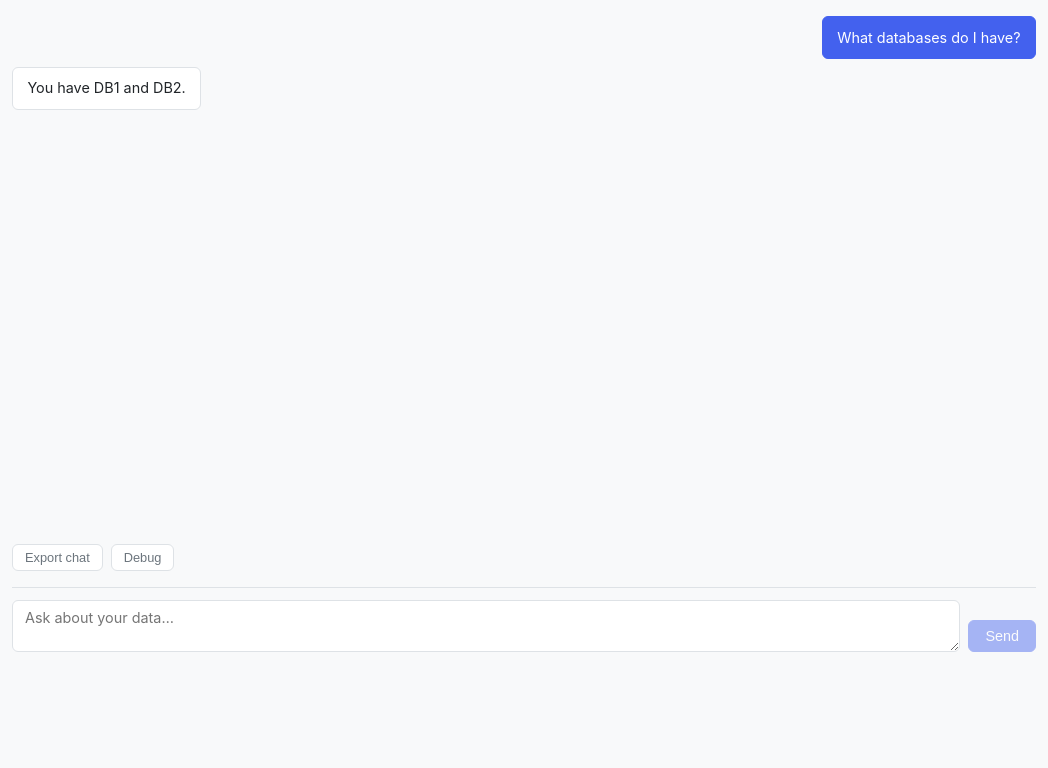
Test: ExploreChat › should show confirmation text after successful copy
Click the button "Export chat" at (57, 558), box [12, 544, 103, 571]
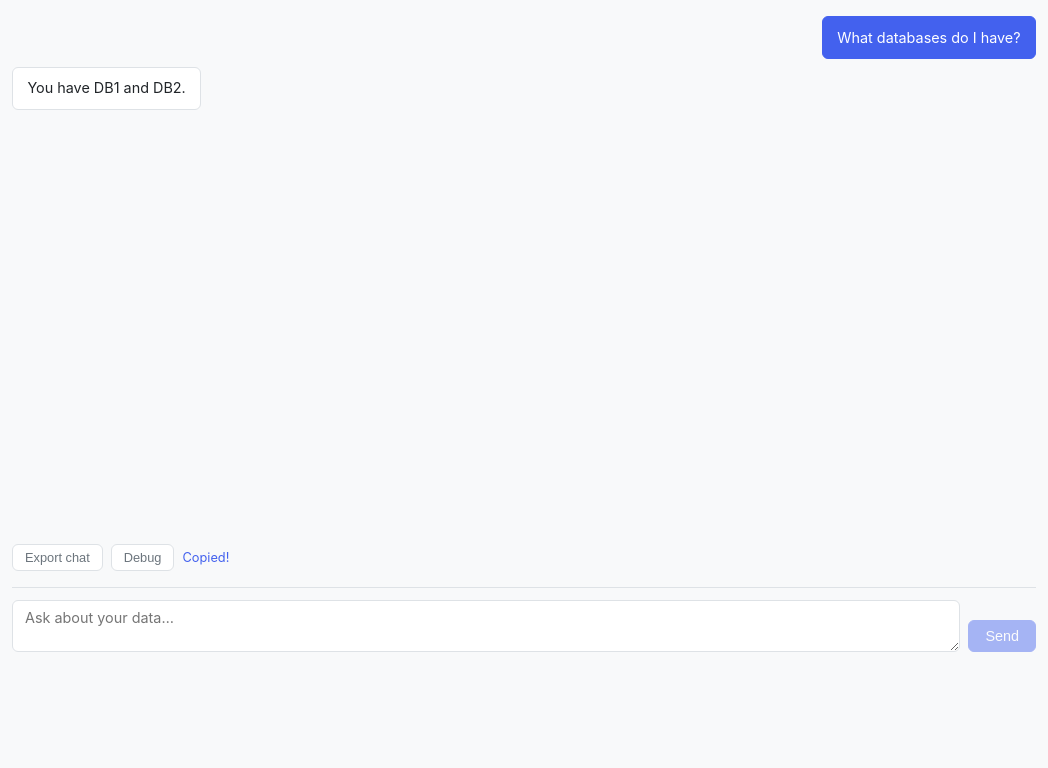
Check: the text "Copied!" is shown, box [182, 548, 229, 567]
